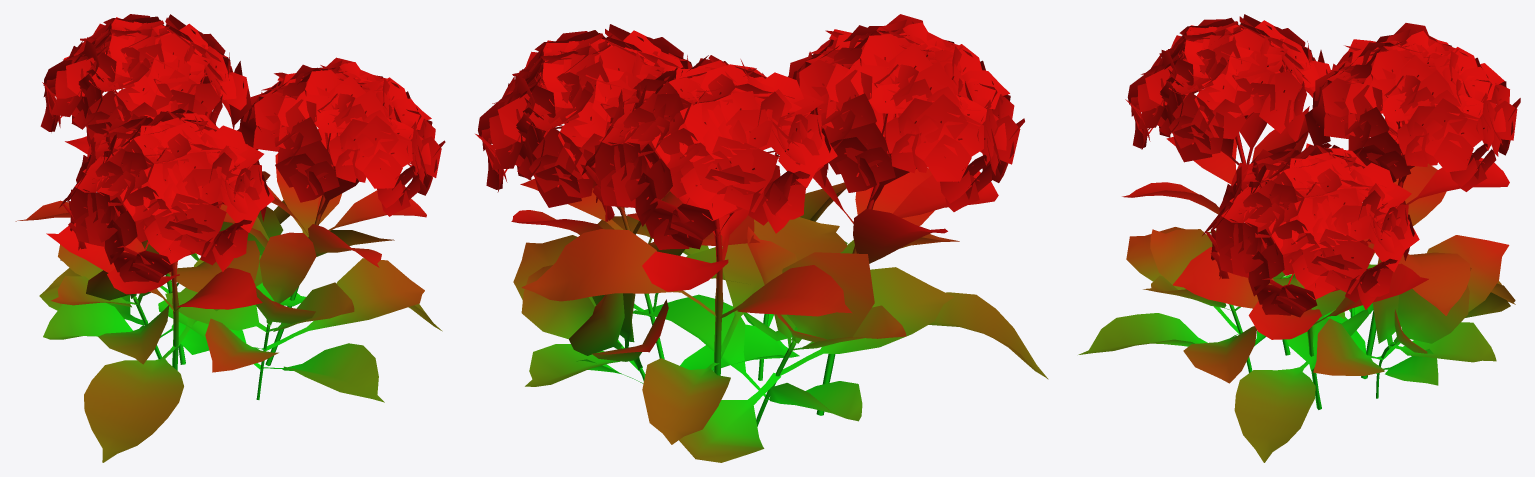
Rendered from flower.fbx.
The picture shows the model from 3 angles, left to right: view 1: azimuth 30°, elevation 25°; view 2: azimuth 150°, elevation 25°; view 3: azimuth 270°, elevation 25°; orthographic projection. The views are drawn at different scales.
Parts seen in each view (by area): view 1: _e0bh_Var8_LOD2; view 2: _e0bh_Var8_LOD2; view 3: _e0bh_Var8_LOD2.
Part boxes in pixels (x1,y1,x2,y2): _e0bh_Var8_LOD2: [15, 14, 445, 462]; _e0bh_Var8_LOD2: [475, 14, 1048, 462]; _e0bh_Var8_LOD2: [1078, 14, 1520, 462].
Bounding box in the file's own units: 41.95 × 32.64 × 39.9.
